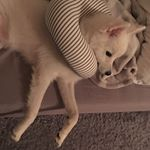puppy: (78, 9, 148, 81)
